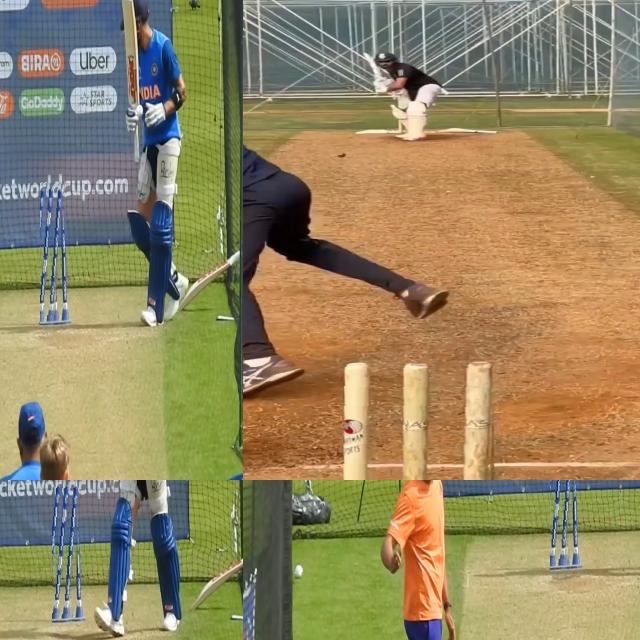Cricket ball: (343, 357, 495, 480), (294, 562, 305, 582), (335, 152, 346, 158)
Stumps: (52, 482, 86, 626), (41, 183, 68, 325), (550, 480, 581, 574)
